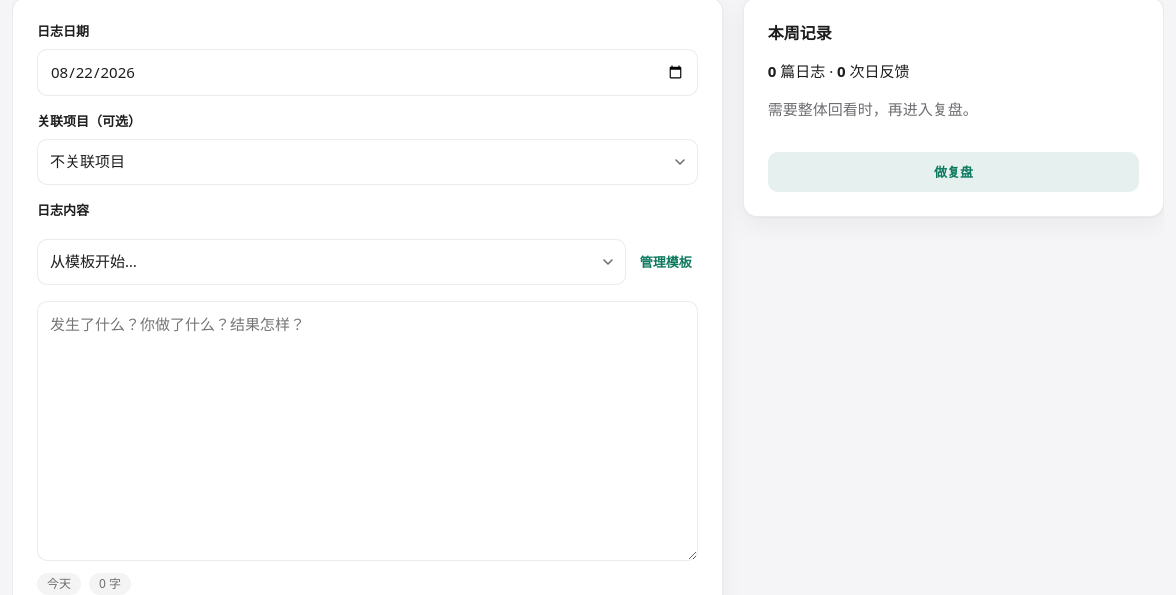
Test case: TodayPage › retains the draft and exposes a retryable error when saving fails
The image size is (1176, 595).
In the text box named "日志内容": (367, 431) [37,301,698,561], type "不能丢失的草稿"
(page scrolled)
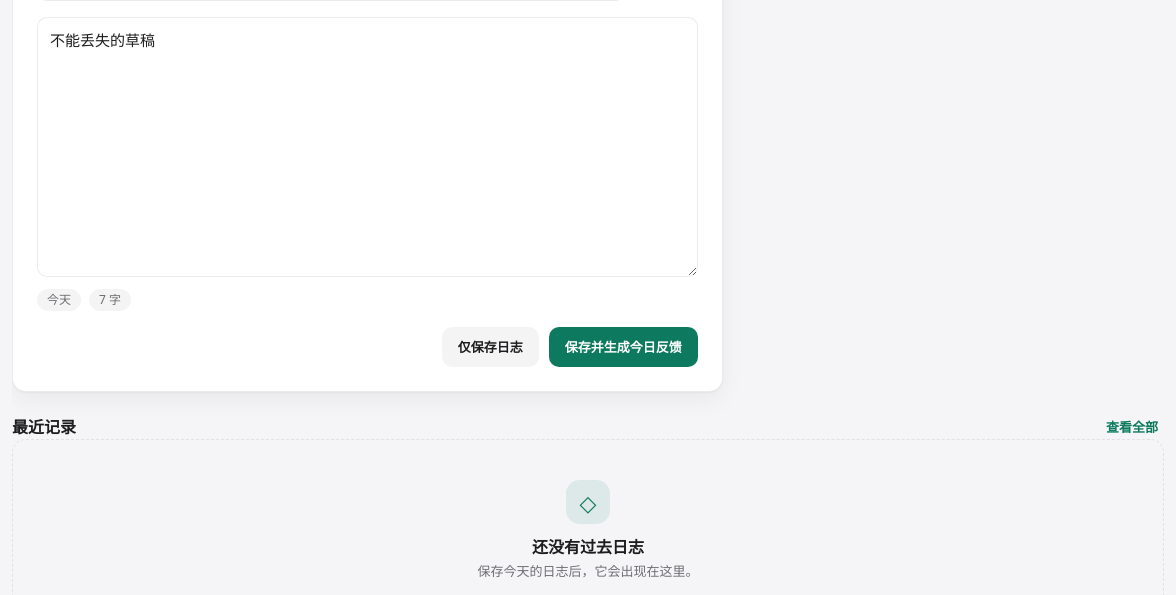
Click the button "仅保存日志": (490, 347) [442,327,539,367]
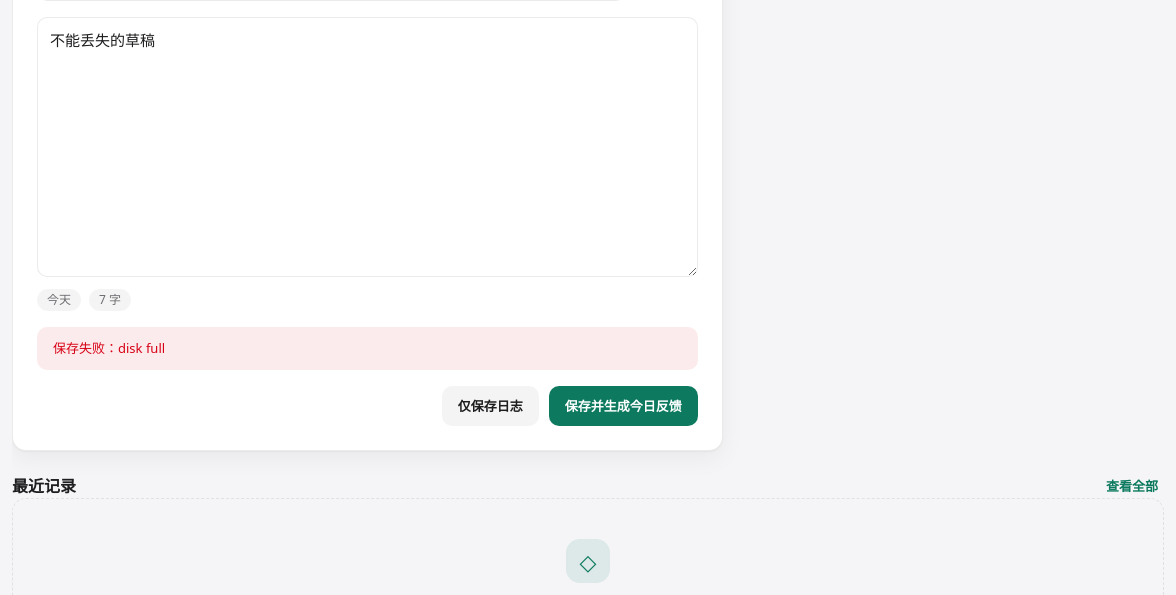
Now the text "保存失败：disk full" is shown, box [37,327,698,370]
